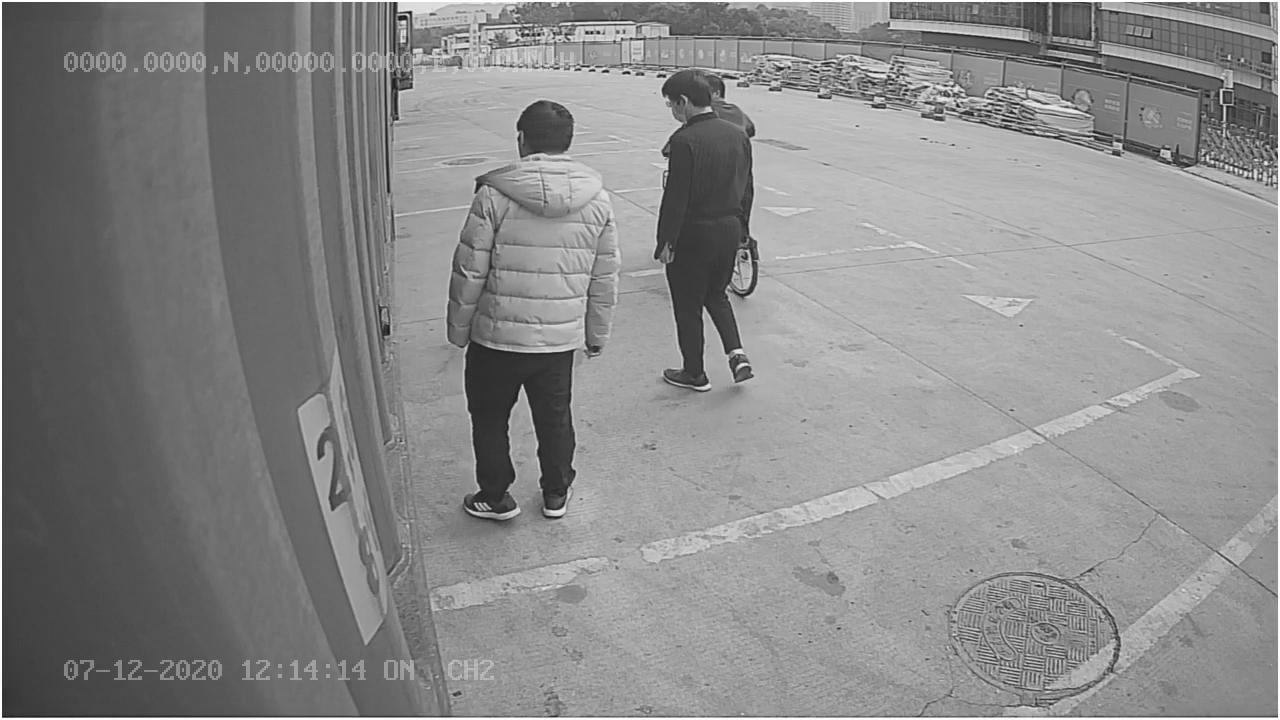person: (444, 97, 625, 528)
